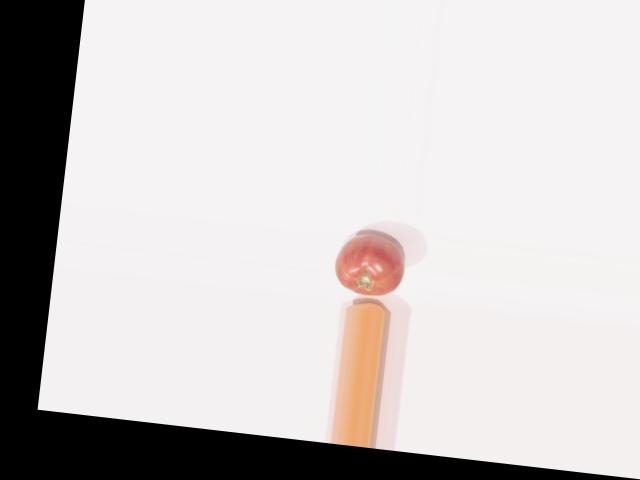tomato: (331, 230, 406, 298)
